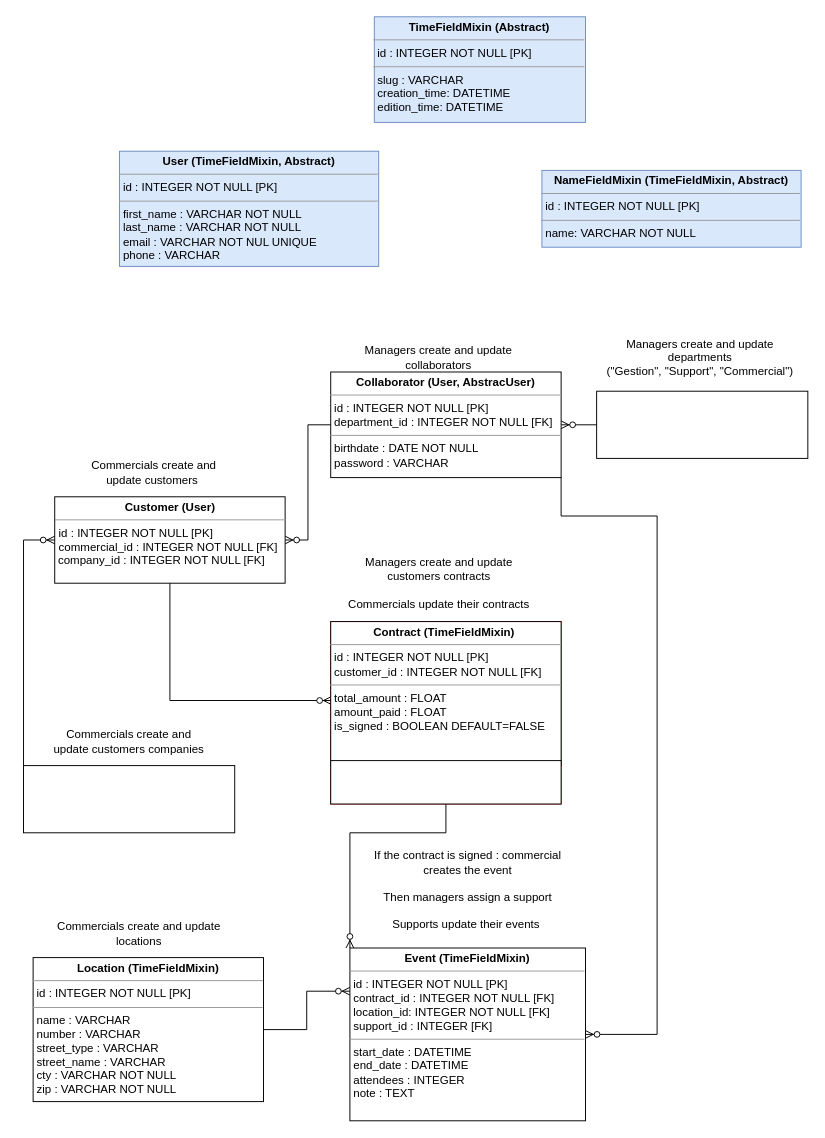
The diagram is 825 pixels wide and 1138 high, and some of its shapes have lost their labels. The shapes that lost their labels are listed below. From the top down, each one's centre as x and y in pixels, then its label:
(702,424): Department (NameFieldMixin) id : INTEGER NOT NULL [PK]
(129,799): Company (NameFieldMixin) id : INTEGER NOT NULL [PK]
(445,782): Methods remaining_amout() = amount - paid
